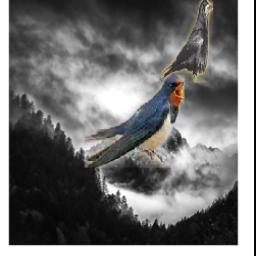Crow: (162, 0, 214, 83)
Swallow: (85, 75, 185, 168)
